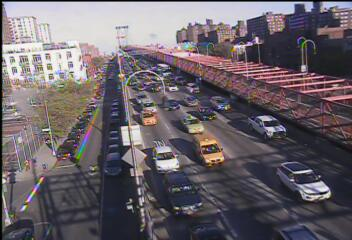neg: (13, 38, 46, 81), (209, 63, 237, 100), (60, 42, 88, 78), (209, 144, 232, 176), (117, 21, 139, 51), (268, 109, 290, 139), (273, 66, 295, 95), (82, 119, 104, 148), (106, 178, 127, 206), (125, 141, 146, 168), (42, 149, 63, 176), (163, 186, 183, 212), (274, 190, 294, 216), (165, 32, 184, 57), (179, 75, 196, 97)
